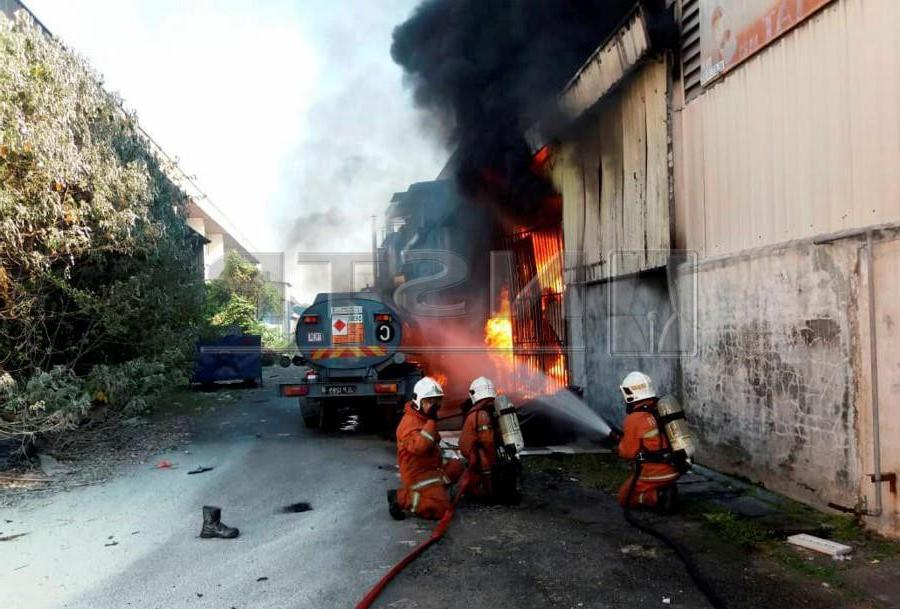fire: (473, 213, 583, 397)
